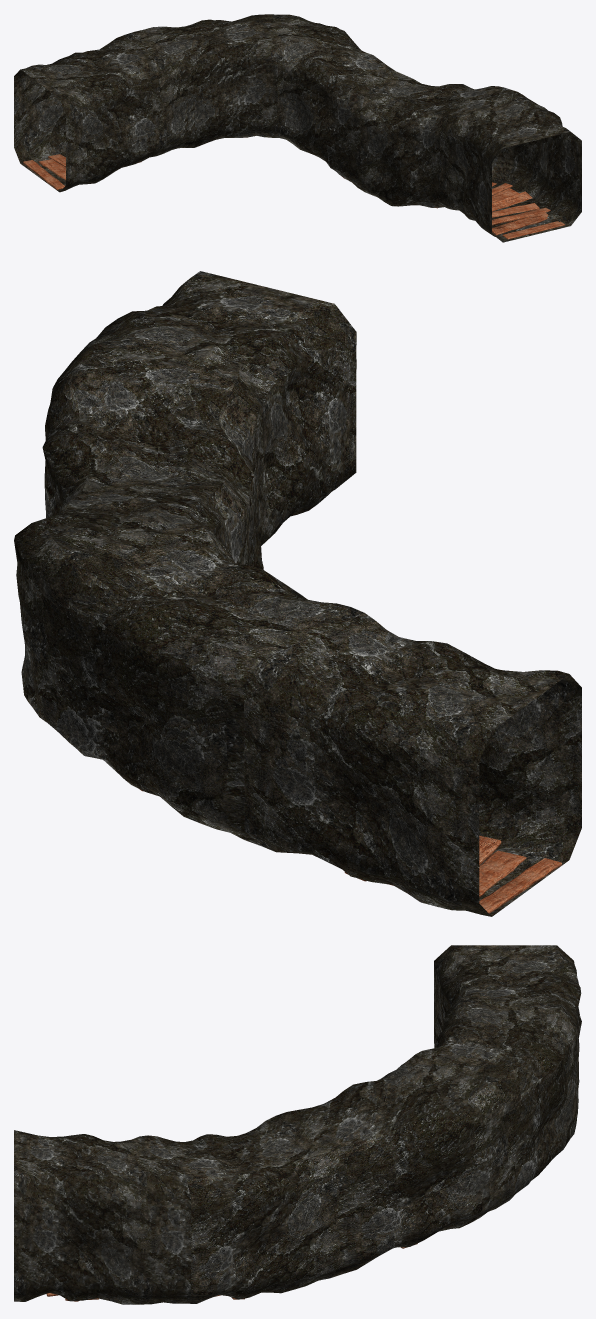
Rendered from Cave_055.fbx.
3 renders of one model, top to bottom at view 1: azimuth 30°, elevation 25°; view 2: azimuth 150°, elevation 25°; view 3: azimuth 270°, elevation 25°, orthographic. The views are drawn at different scales.
Parts seen in each view (by area): view 1: Cave.055; view 2: Cave.055; view 3: Cave.055.
Part boxes in pixels (bbox=[...]): Cave.055: bbox=[14, 14, 581, 242]; Cave.055: bbox=[14, 271, 581, 916]; Cave.055: bbox=[14, 945, 581, 1304].
Bounding box in the file's own units: 1221 × 400 × 1217.
